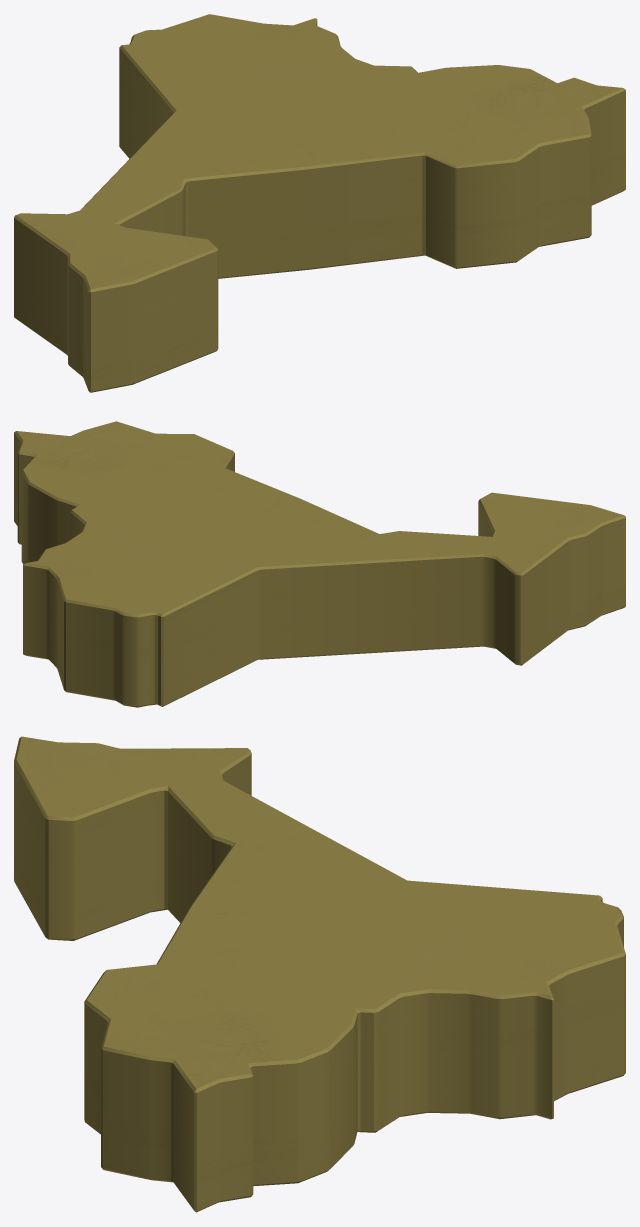
The model's file is iraq.DAE.
3 views of the same model, one above another, from view 1: azimuth 30°, elevation 25°; view 2: azimuth 150°, elevation 25°; view 3: azimuth 270°, elevation 25° (orthographic). The views are drawn at different scales.
Parts seen in each view (by area): view 1: Iraq; view 2: Iraq; view 3: Iraq.
Part boxes in pixels (x1,y1,x2,y2): Iraq: (14,14,625,392); Iraq: (14,421,625,707); Iraq: (14,736,625,1212).
Bounding box in the file's own units: 154 × 112 × 25.
1 material, 1 textured.
